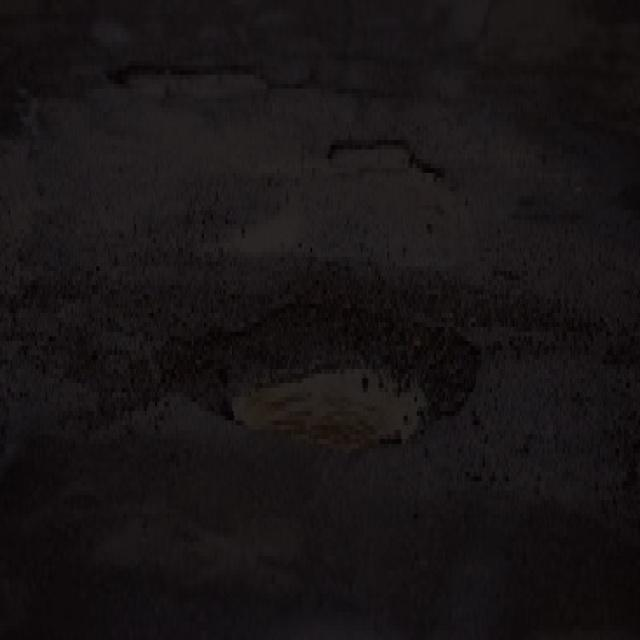Pothole: (155, 288, 488, 457), (94, 56, 281, 112), (312, 126, 452, 188)
